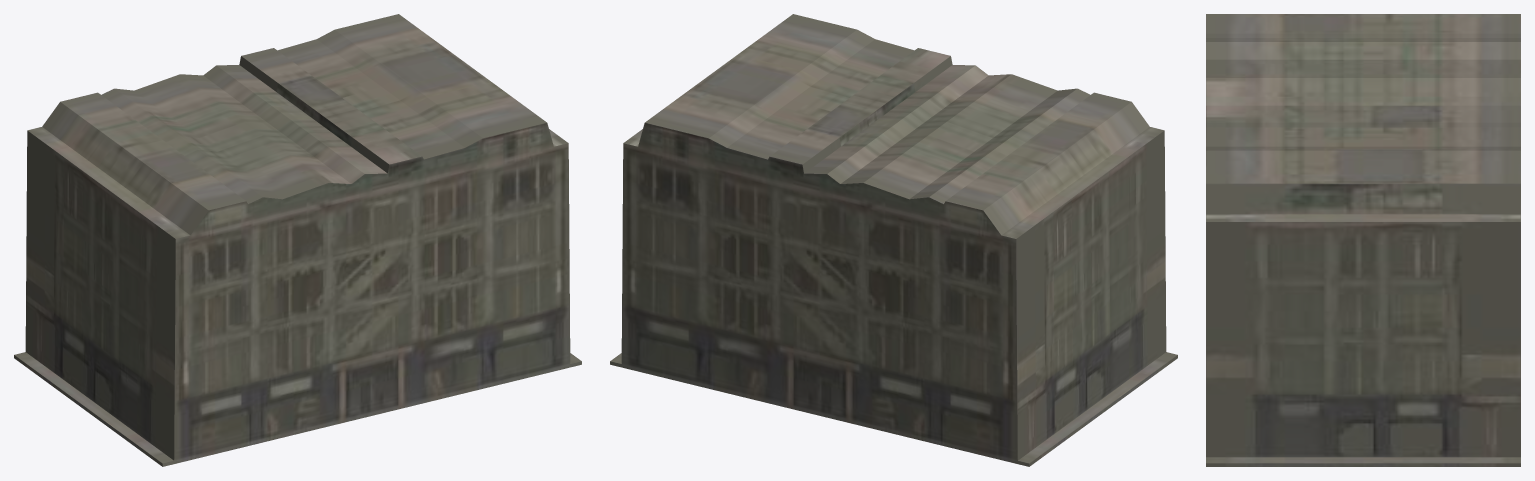
Rendered from bg_city_building_1_lod1.glb.
The picture shows the model from 3 angles, left to right: view 1: azimuth 30°, elevation 25°; view 2: azimuth 150°, elevation 25°; view 3: azimuth 270°, elevation 25°; orthographic projection. The views are drawn at different scales.
Parts seen in each view (by area): view 1: body; view 2: body; view 3: body.
Boxes of the visible parts, left/top/right/bottom form: body: left=14, top=14, right=581, bottom=466; body: left=610, top=14, right=1177, bottom=466; body: left=1206, top=14, right=1520, bottom=466.
Bounding box in the file's own units: 10 × 5.71 × 6.14.
1 material, 1 textured.
